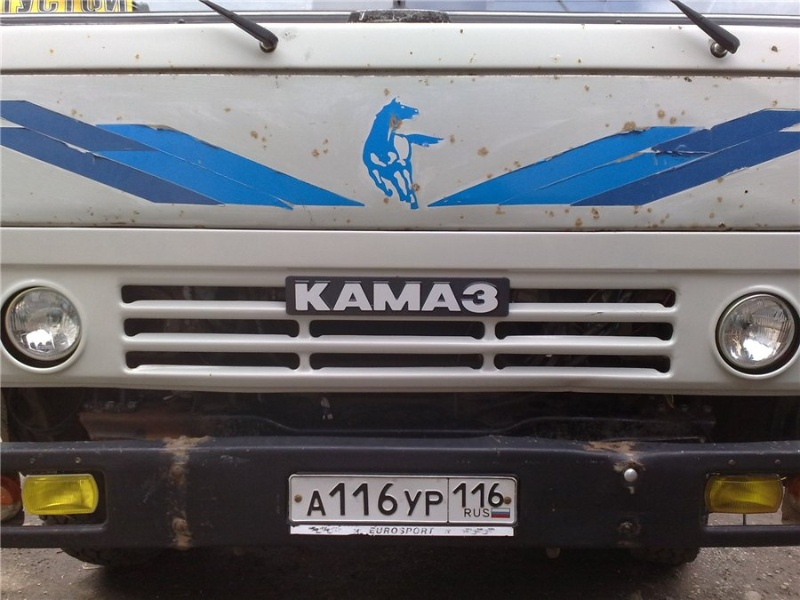car: (1, 1, 800, 553)
plate: (290, 475, 514, 525)
